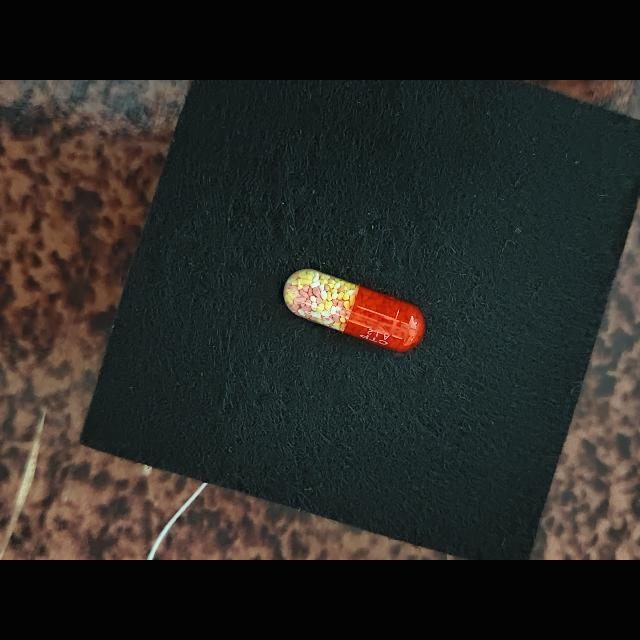Intact Capsule: (283, 269, 425, 352)
